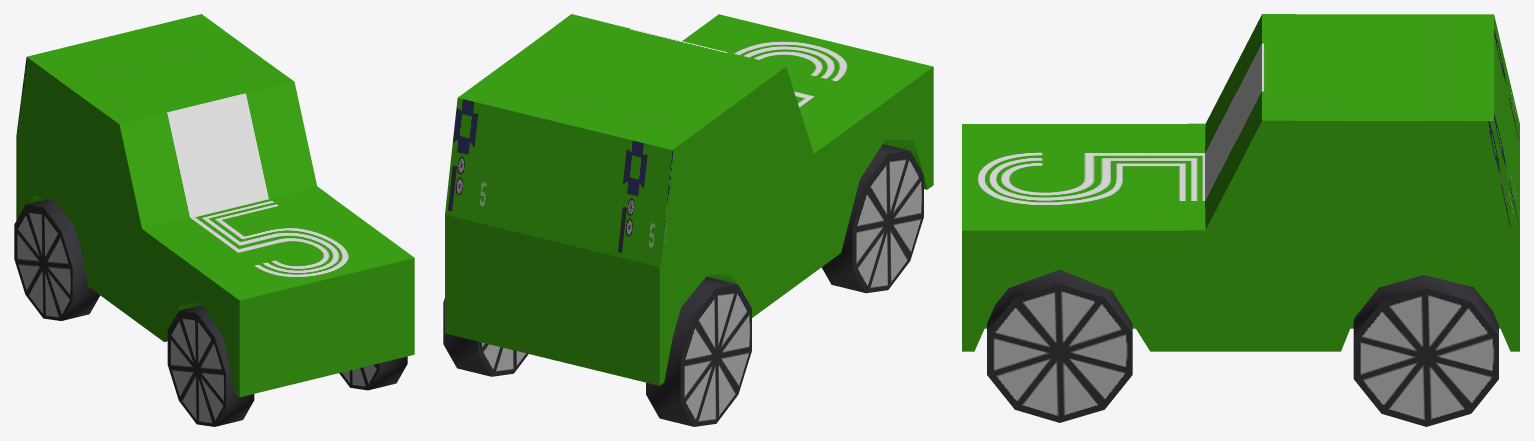
Rendered from Jeep 1.fbx.
3 views of the same model, side by side, from view 1: azimuth 30°, elevation 25°; view 2: azimuth 150°, elevation 25°; view 3: azimuth 270°, elevation 25° (orthographic). The views are drawn at different scales.
Visible parts, largest first — view 1: JeepShell, BRWheel, FRWheel, FLWheel; view 2: JeepShell, BRWheel, FRWheel, BLWheel; view 3: JeepShell, BLWheel, FLWheel.
Part boxes in pixels (<box>): JeepShell: <box>16,14,414,397</box>; BRWheel: <box>14,199,99,320</box>; FRWheel: <box>167,305,254,426</box>; FLWheel: <box>339,356,407,390</box>; JeepShell: <box>445,14,933,385</box>; BRWheel: <box>646,276,751,426</box>; FRWheel: <box>821,144,923,293</box>; BLWheel: <box>443,298,528,376</box>; JeepShell: <box>962,14,1519,351</box>; BLWheel: <box>1353,275,1498,426</box>; FLWheel: <box>987,269,1132,422</box>.
Size of the model in its own units: 147 by 175 by 294.
